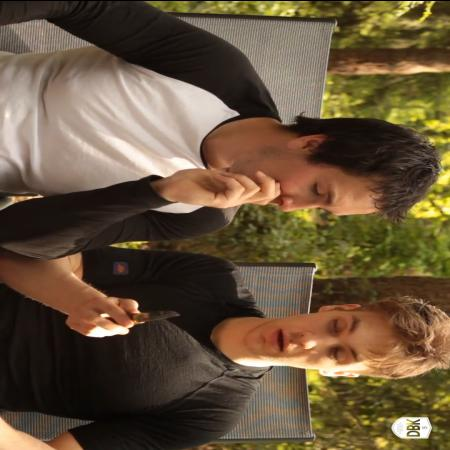long weapon: (82, 294, 190, 342)
